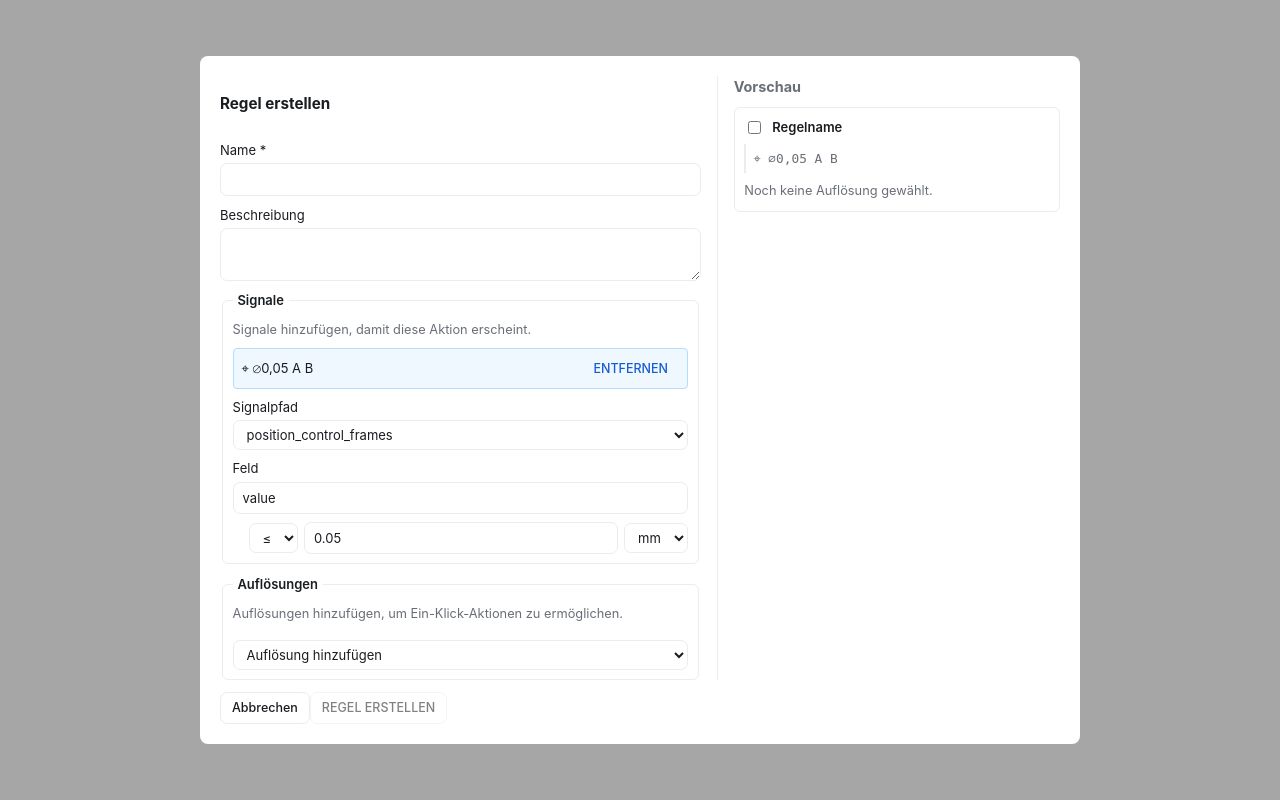
Test: CreateRuleModal › pre-seeds a Selected item chip from a callout, and can clear it
Check: the text "⌖ ⌀0,05 A B" is shown 2 times, box [242, 358, 313, 378]; [744, 144, 1049, 173]
Check: the dropdown labelled "Signalpfad" shows "position_control_frames", box [233, 420, 688, 450]
What coordinates should you click on to do the following:
click the button "ENTFERNEN"
I would click on:
 (631, 368)
Its box is [582, 354, 679, 383].
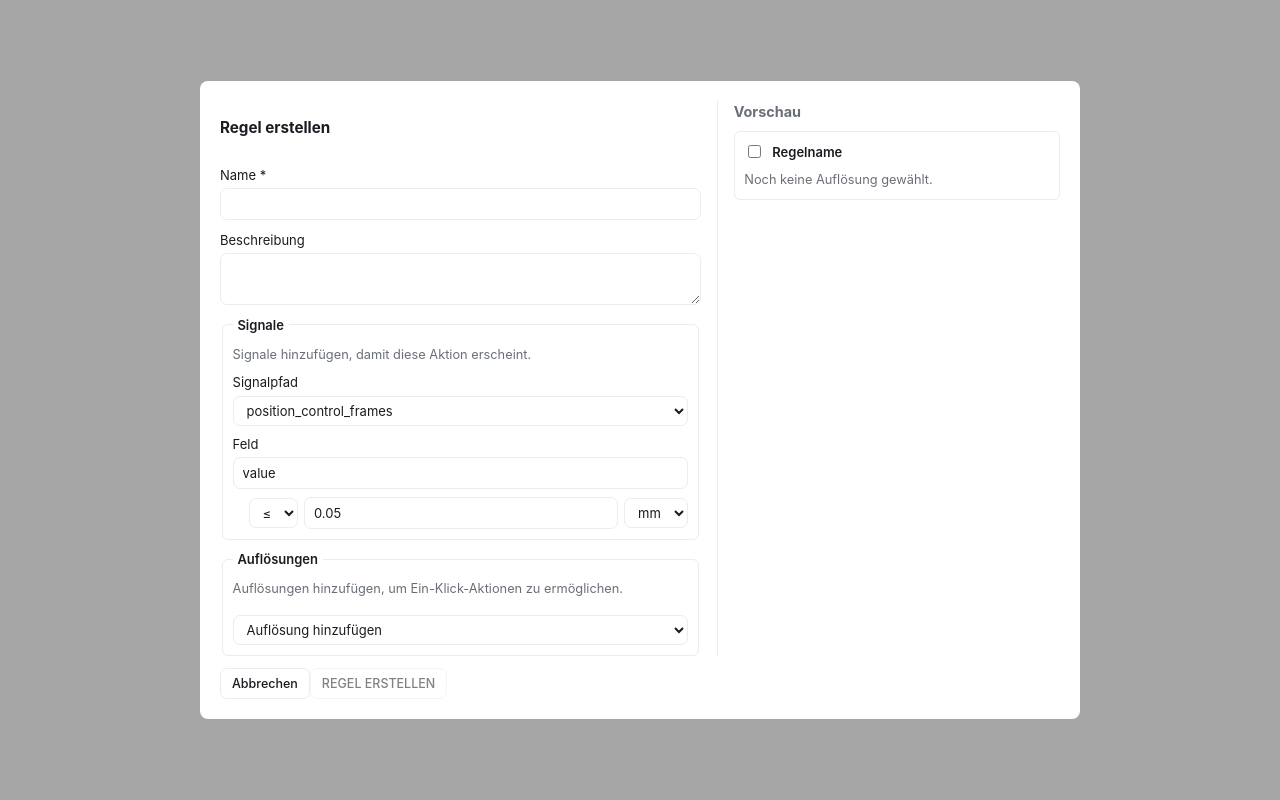
Check: the text "⌖ ⌀0,05 A B" is gone
